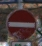No entry: (5, 6, 36, 41)
